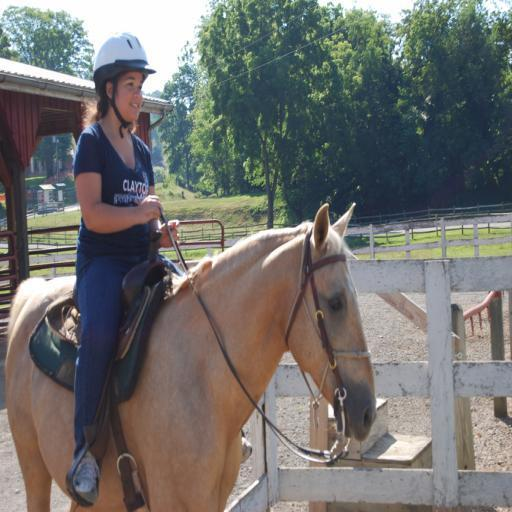horse: (4, 204, 378, 512)
